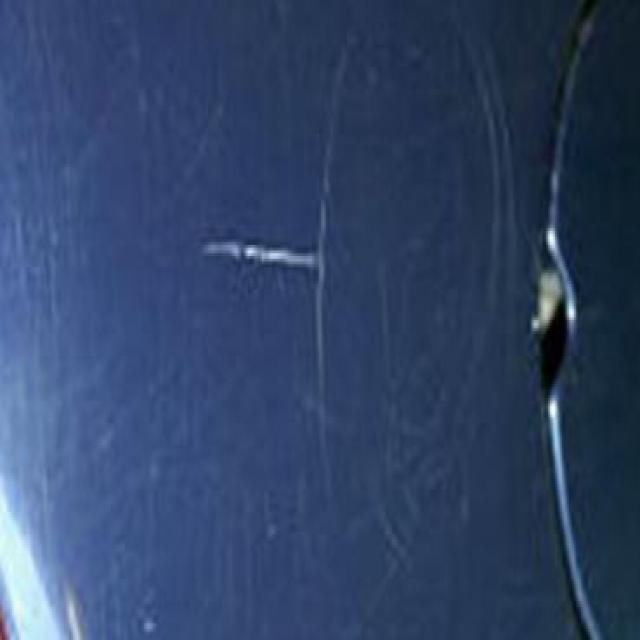scratch: (178, 224, 326, 272)
